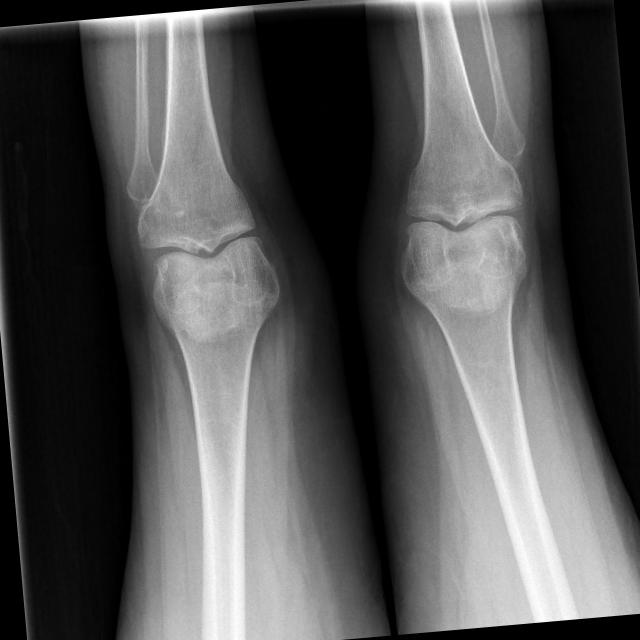Knee: (128, 184, 284, 320), (386, 154, 531, 286)
